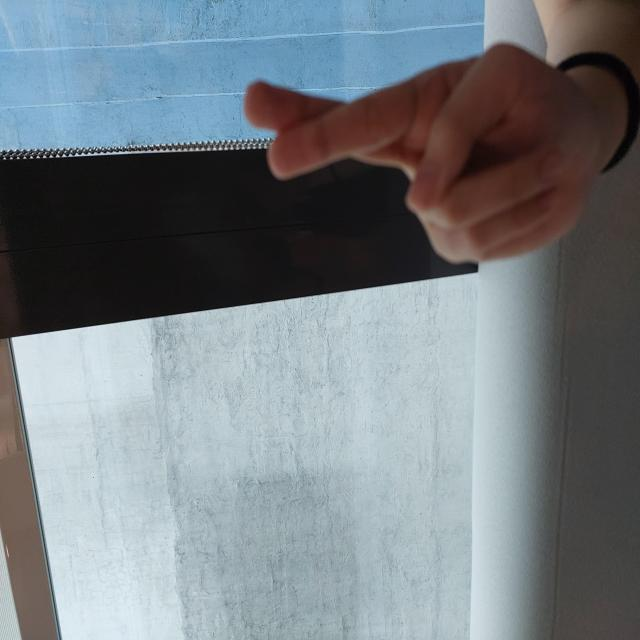R: (375, 242, 601, 592)
